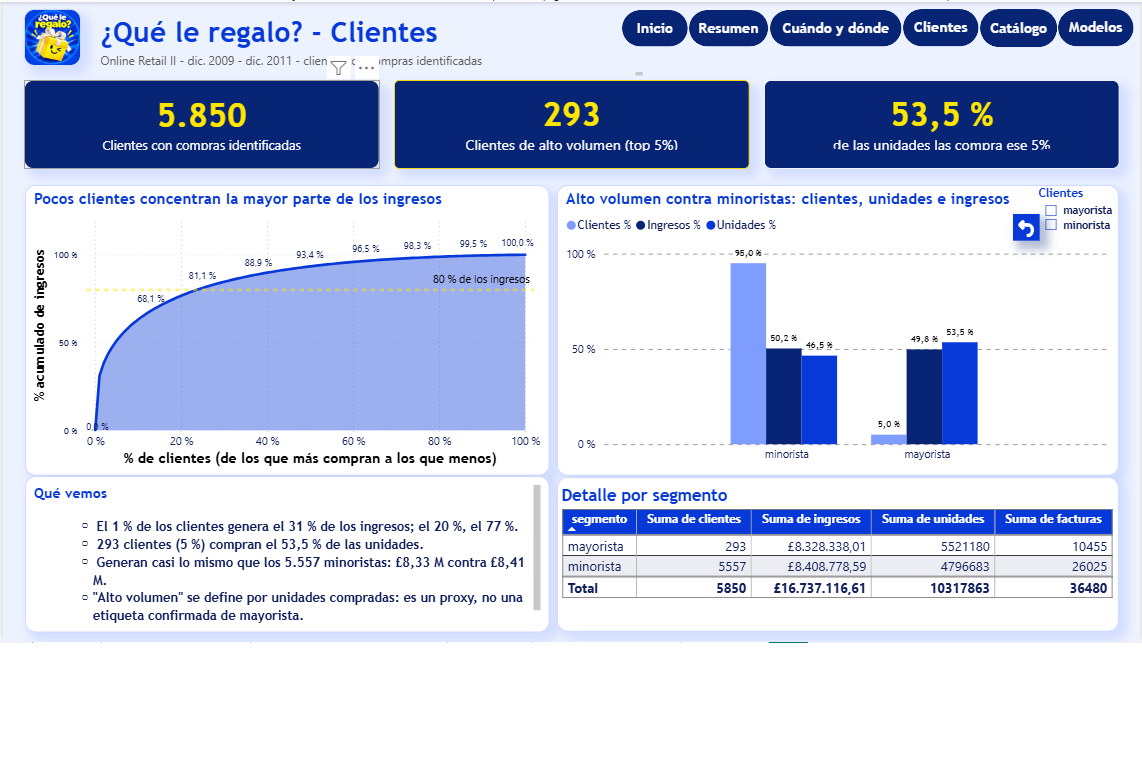

This screenshot's page, from the dashboard's own definition file:
{"tool":"powerbi","page":{"name":"Clientes","canvas":[1280,720],"ordinal":3},"visuals":[{"type":"image","box":[24,8,64,64],"z":0},{"type":"textbox","title":"¿Qué le regalo? - Clientes","box":[104.3,14.3,620,72.9],"z":1000},{"type":"areaChart","title":"Pocos clientes concentran la mayor parte de los ingresos","fields":{"Category":["pareto_clientes.pct_clientes"],"Y":["Sum(pareto_clientes.pct_ingresos_acumulado)"]},"box":[24.2,205.9,589.7,327],"z":2000},{"type":"clusteredColumnChart","title":"Alto volumen contra minoristas: clientes, unidades e ingresos","fields":{"Y":["segmentos.Clientes %","segmentos.Ingresos %","segmentos.Unidades %"],"Category":["segmentos.segmento"]},"box":[623.7,205.9,632.1,327],"z":3000},{"type":"textbox","box":[24.2,532.8,589.7,175.6],"z":4000},{"type":"actionButton","box":[696,9,74,41],"z":5000},{"type":"actionButton","box":[772,9,89,41],"z":6000},{"type":"actionButton","box":[1099,8,87,43],"z":7000},{"type":"actionButton","box":[863,9,148,41],"z":8000},{"type":"actionButton","box":[1187,8,85,42],"z":9000},{"type":"actionButton","box":[1012,8,85,42],"z":10000},{"type":"cardVisual","fields":{"Data":["Sum(kpis.clientes)"]},"box":[24,88,400,100],"z":11000},{"type":"cardVisual","fields":{"Data":["Sum(segmentos.clientes)"]},"box":[440,88,400,100],"z":12000},{"type":"cardVisual","fields":{"Data":["Sum(segmentos.pct_unidades)"]},"box":[856,88,400,100],"z":13000},{"type":"tableEx","title":"Detalle por segmento","fields":{"Values":["segmentos.segmento","Sum(segmentos.clientes)","Sum(segmentos.ingresos)","Sum(segmentos.unidades)","Sum(segmentos.facturas)"]},"box":[623.7,534,632.1,174.4],"z":14000},{"type":"slicer","title":"Clientes","fields":{"Values":["segmentos.segmento"]},"box":[1160.1,205.9,99.3,61.8],"z":15000},{"type":"actionButton","box":[1135.9,238.6,30.3,30.3],"z":16000}]}

Visuals, with their boxes on the page's 1280x720 design canvas (x1, y1, x2, y2). These are canvas units, not pixel positions in the 1142x768 screenshot, which may show the page scaled, cropped or inside an application window:
image: {"x1": 24, "y1": 8, "x2": 88, "y2": 72}
"¿Qué le regalo? - Clientes" textbox: {"x1": 104, "y1": 14, "x2": 724, "y2": 87}
"Pocos clientes concentran la mayor parte de los ingresos" areaChart: {"x1": 24, "y1": 206, "x2": 614, "y2": 533}
"Alto volumen contra minoristas: clientes, unidades e ingresos" clusteredColumnChart: {"x1": 624, "y1": 206, "x2": 1256, "y2": 533}
textbox: {"x1": 24, "y1": 533, "x2": 614, "y2": 708}
actionButton: {"x1": 696, "y1": 9, "x2": 770, "y2": 50}
actionButton: {"x1": 772, "y1": 9, "x2": 861, "y2": 50}
actionButton: {"x1": 1099, "y1": 8, "x2": 1186, "y2": 51}
actionButton: {"x1": 863, "y1": 9, "x2": 1011, "y2": 50}
actionButton: {"x1": 1187, "y1": 8, "x2": 1272, "y2": 50}
actionButton: {"x1": 1012, "y1": 8, "x2": 1097, "y2": 50}
cardVisual - Sum(kpis.clientes): {"x1": 24, "y1": 88, "x2": 424, "y2": 188}
cardVisual - Sum(segmentos.clientes): {"x1": 440, "y1": 88, "x2": 840, "y2": 188}
cardVisual - Sum(segmentos.pct_unidades): {"x1": 856, "y1": 88, "x2": 1256, "y2": 188}
"Detalle por segmento" tableEx: {"x1": 624, "y1": 534, "x2": 1256, "y2": 708}
"Clientes" slicer: {"x1": 1160, "y1": 206, "x2": 1259, "y2": 268}
actionButton: {"x1": 1136, "y1": 239, "x2": 1166, "y2": 269}
